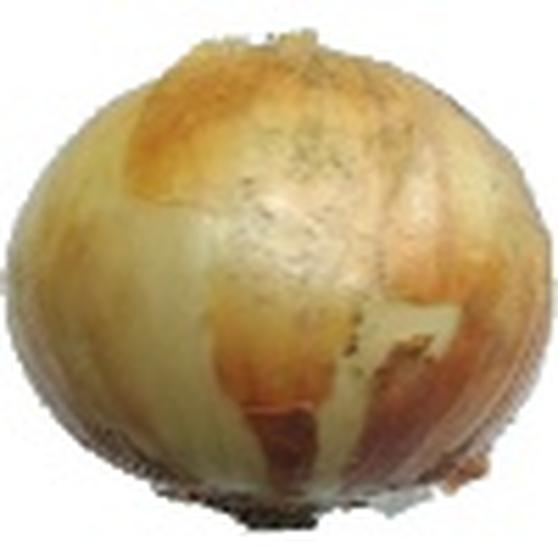onion: (12, 37, 548, 523)
